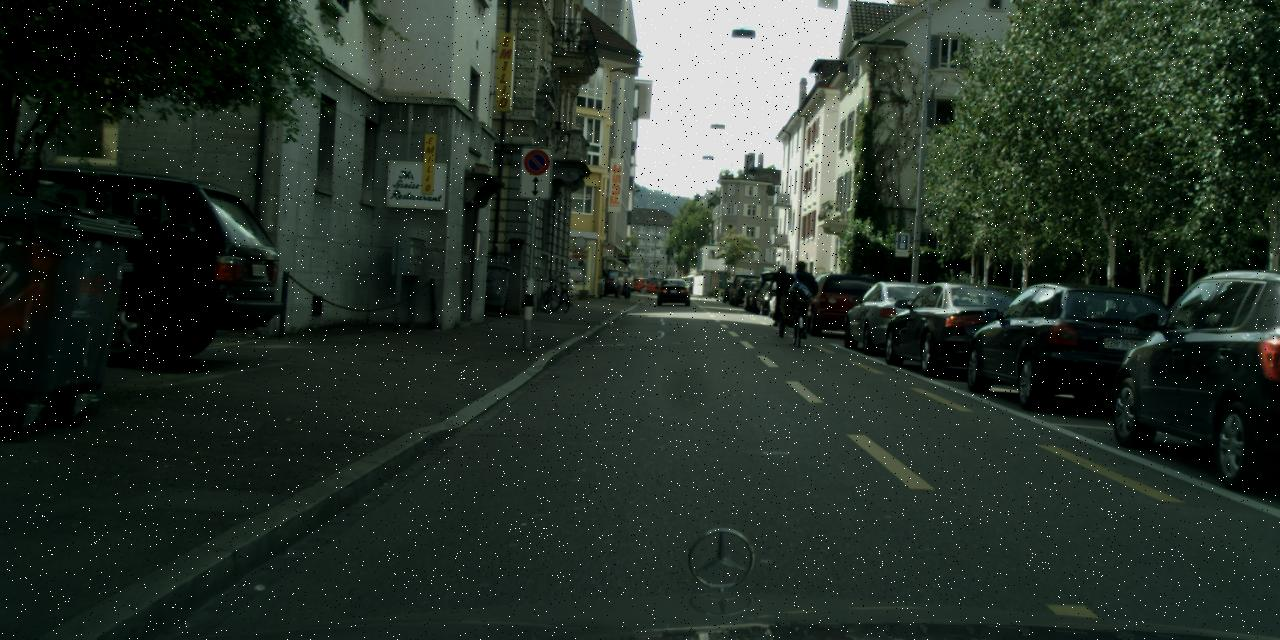ped: (784, 258, 813, 330), (770, 264, 794, 325), (613, 270, 636, 300)
